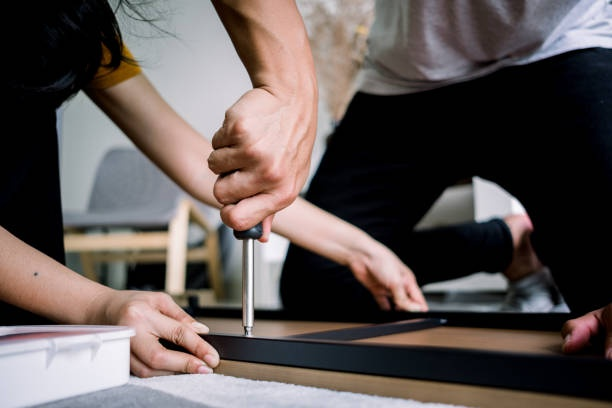screwdriver: (214, 107, 281, 337)
